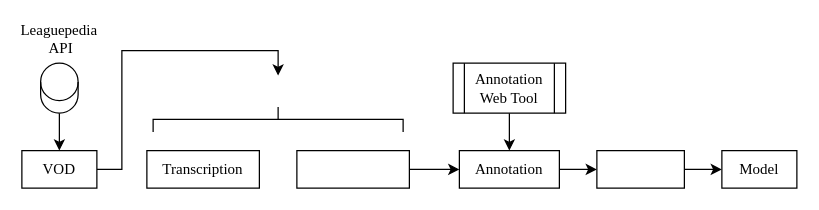
The diagram is 819 pixels wide and 210 high, and some of its shapes have lost their labels. Here are the shapes that lost their labels. From the top down, the centre of each, then its label:
At [277,119]: "youtube_transcript_api".
At [352,168]: "Segmentation".
At [640,168]: "Dataset".
